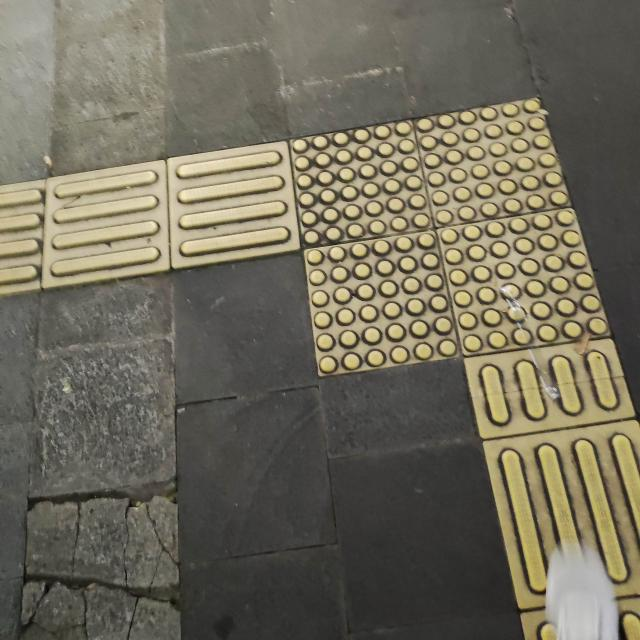kiri: (132, 92, 640, 444)
